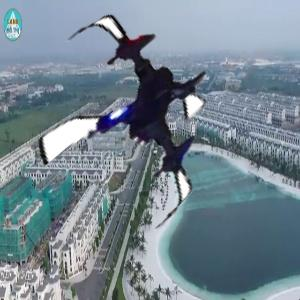drone: (18, 15, 236, 233)
